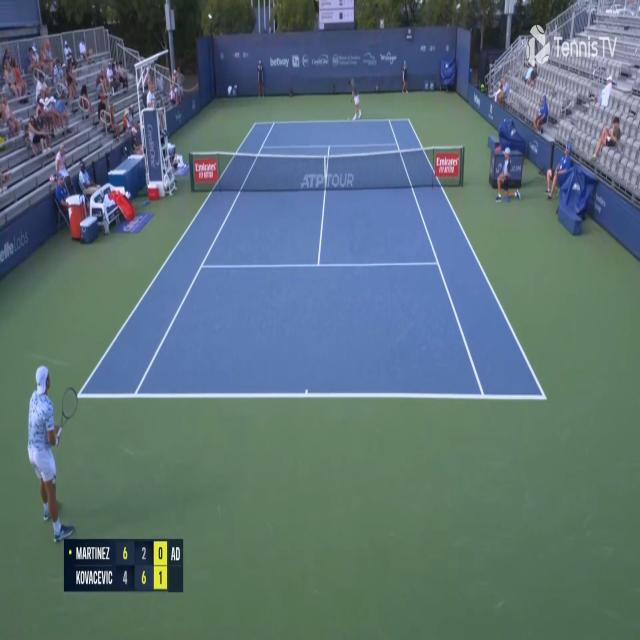tennis-player: (26, 358, 82, 545), (348, 76, 362, 123)
